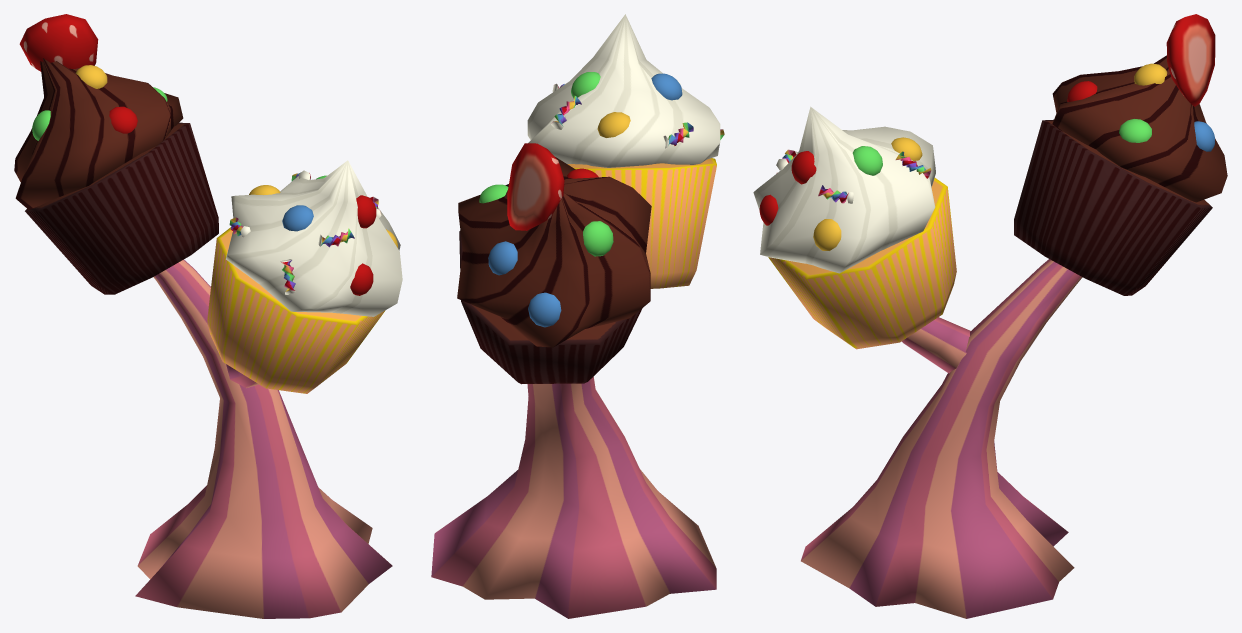
Rendered from tree_candy1.fbx.
3 views of the same model, side by side, from view 1: azimuth 30°, elevation 25°; view 2: azimuth 150°, elevation 25°; view 3: azimuth 270°, elevation 25° (orthographic). The views are drawn at different scales.
Parts seen in each view (by area): view 1: tree_candy1; view 2: tree_candy1; view 3: tree_candy1.
Part boxes in pixels (x1=…): tree_candy1: x1=14, y1=14, x2=402, y2=618; tree_candy1: x1=431, y1=14, x2=724, y2=618; tree_candy1: x1=753, y1=14, x2=1227, y2=618.
Bounding box in the file's own units: 513 × 857 × 735.
